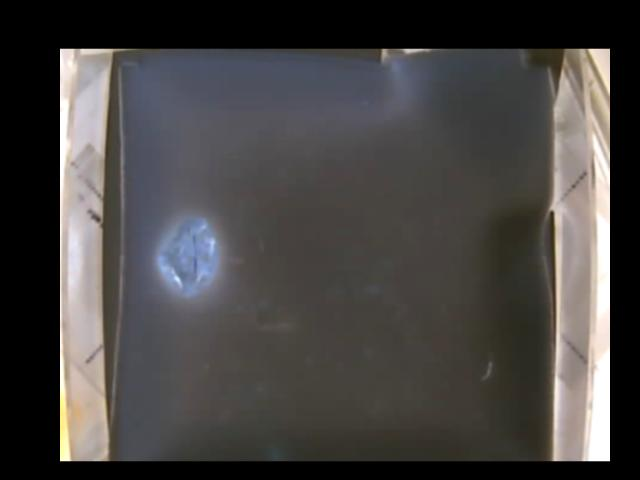Pebble: (154, 213, 218, 297)
